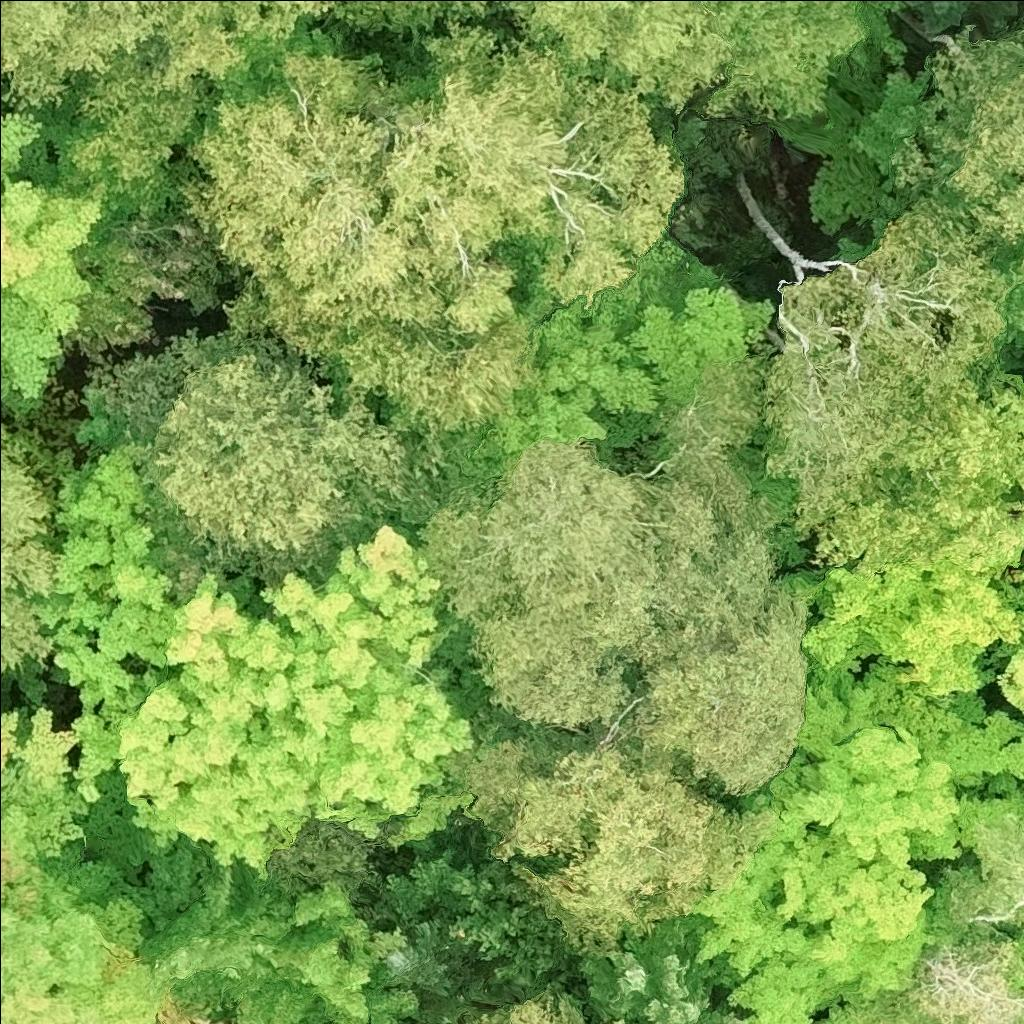crown: (411, 352, 812, 953), (178, 17, 685, 435), (84, 523, 482, 884), (690, 657, 1023, 1023), (83, 325, 462, 605), (758, 196, 1020, 569), (444, 237, 774, 484), (0, 698, 232, 1023), (23, 390, 178, 807), (125, 837, 424, 1023), (494, 0, 873, 125), (0, 97, 111, 415), (775, 558, 1023, 694), (57, 40, 220, 215), (0, 0, 251, 109), (930, 28, 1023, 257), (576, 910, 748, 1023), (0, 424, 64, 676), (869, 935, 1023, 1023), (927, 825, 1023, 940), (371, 913, 482, 1006), (331, 0, 495, 38), (475, 984, 626, 1023), (227, 0, 336, 43), (903, 0, 1012, 37), (989, 643, 1023, 716), (1005, 557, 1023, 586), (399, 1018, 422, 1023), (1022, 608, 1023, 612)
